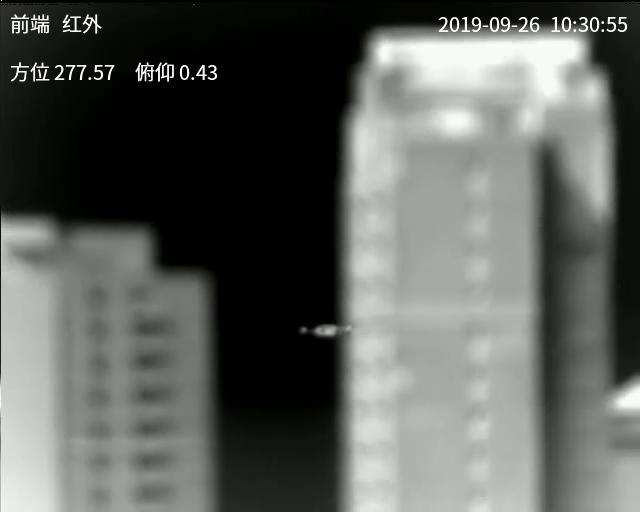uav: (300, 322, 358, 338)
